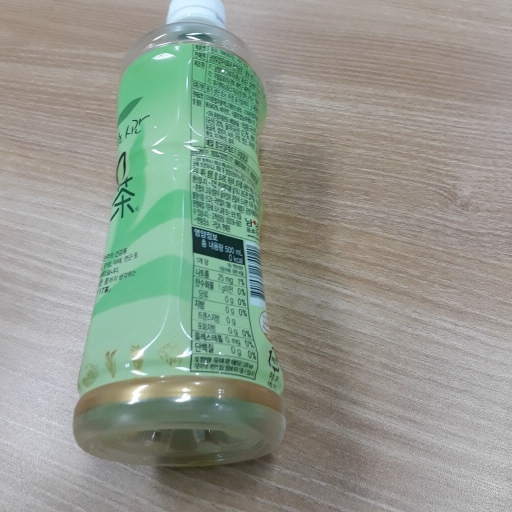Plastic_0: (75, 1, 288, 464)
